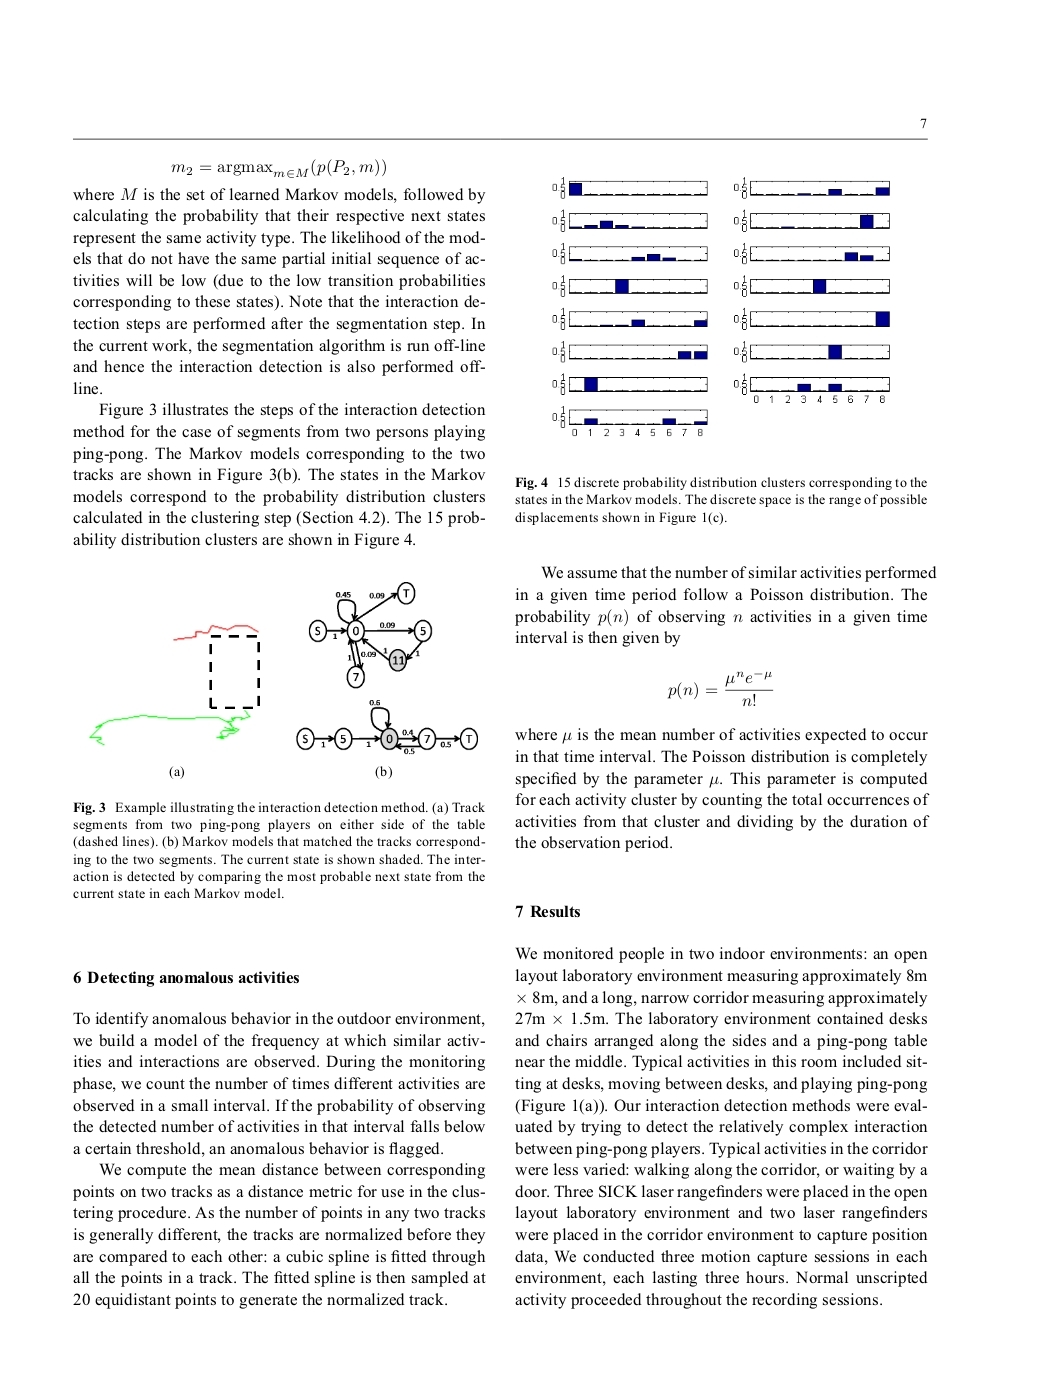figure: (296, 582, 477, 754), (89, 625, 259, 744), (552, 406, 707, 436), (734, 373, 889, 402), (734, 306, 889, 329), (552, 306, 707, 329), (552, 177, 707, 198), (734, 177, 889, 198), (552, 210, 707, 231), (734, 210, 889, 231), (734, 243, 889, 264), (734, 275, 889, 296), (734, 341, 889, 362), (552, 243, 707, 264), (552, 275, 707, 296), (552, 341, 707, 362), (552, 373, 707, 395)
formula: (171, 158, 385, 178), (666, 670, 773, 707)
